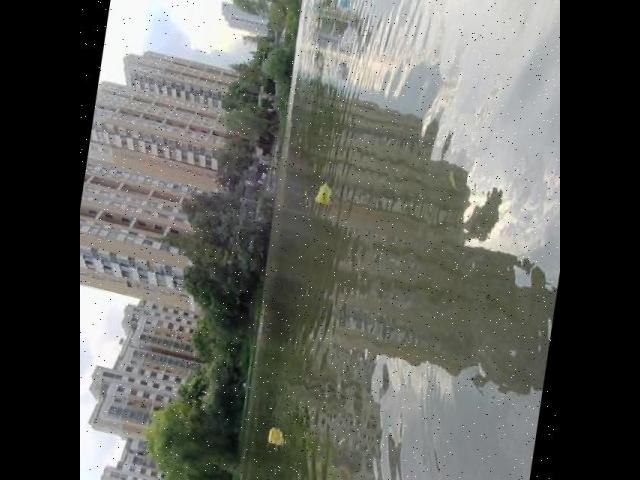Bottle: (261, 413, 289, 459)
